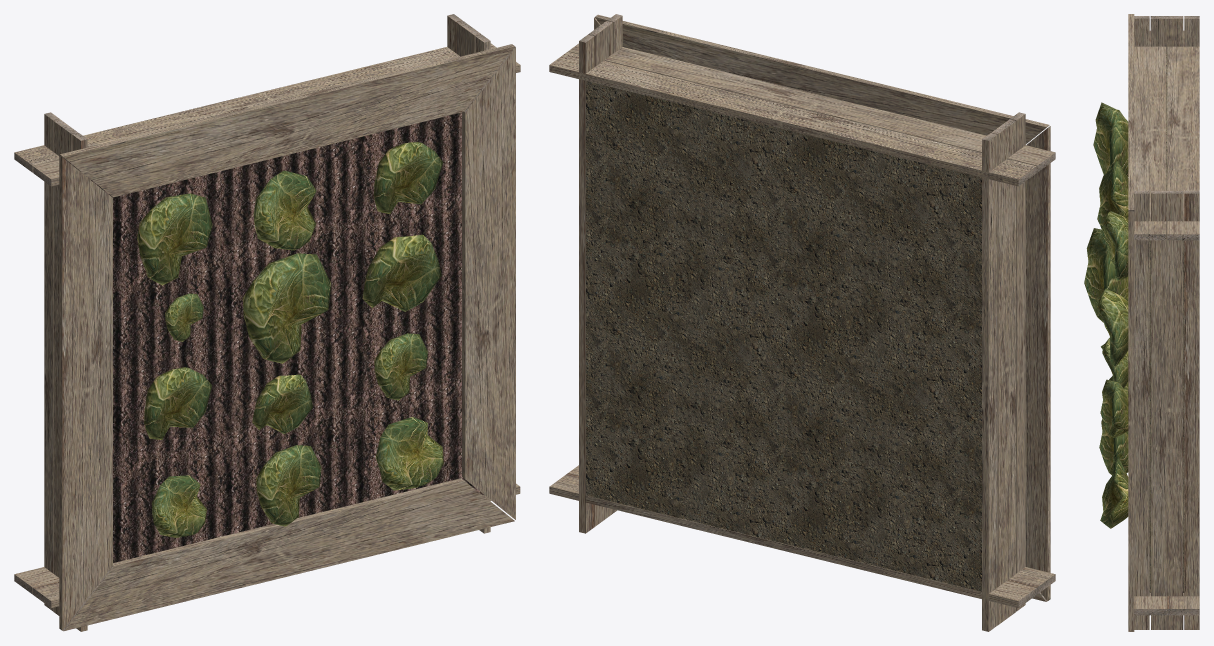
File: cabbage-wilted.dae
The picture shows the model from 3 angles, left to right: view 1: azimuth 30°, elevation 25°; view 2: azimuth 150°, elevation 25°; view 3: azimuth 270°, elevation 25°; orthographic projection. The views are drawn at different scales.
Visible parts, largest first — view 1: dirt, top_1_Cube_016, top_2_Cube_022, top_3_Cube_021, top_4_Cube_023, cabbage_10_SphFBXASC195FBXASC131_re_011, plank_01_Cube_02, cabbage_10_010_SphFBXASC195FBXASC131_re_021, cabbage_10_007_SphFBXASC195FBXASC131_re_018, plank_03_Cube_004, cabbage_10_009_SphFBXASC195FBXASC131_re_020, cabbage_10_005_SphFBXASC195FBXASC131_re_016 (+9 smaller); view 2: dirt, plank_01_Cube_02, top_2_Cube_022, top_1_Cube_016, plank_04_Cube_006, plank_02_Cube_03, plank_03_Cube_004, plank_06_Cube_009, plank_05_Cube_007, plank_08_Cube_011, plank_09_Cube_013, plank_07_Cube_010; view 3: plank_09_Cube_013, plank_08_Cube_011, plank_10_Cube_014, plank_01_Cube_02, plank_02_Cube_03, top_4_Cube_023, cabbage_10_010_SphFBXASC195FBXASC131_re_021, cabbage_10_SphFBXASC195FBXASC131_re_011, dirt, cabbage_10_007_SphFBXASC195FBXASC131_re_018, cabbage_10_005_SphFBXASC195FBXASC131_re_016, cabbage_10_009_SphFBXASC195FBXASC131_re_020 (+10 smaller).
Boxes of the visible parts, left/top/right/bottom form: dirt: left=88, top=112, right=483, bottom=562; top_1_Cube_016: left=60, top=44, right=514, bottom=197; top_2_Cube_022: left=59, top=155, right=112, bottom=630; top_3_Cube_021: left=63, top=478, right=514, bottom=631; top_4_Cube_023: left=462, top=47, right=515, bottom=519; cabbage_10_SphFBXASC195FBXASC131_re_011: left=242, top=253, right=331, bottom=363; plank_01_Cube_02: left=14, top=43, right=496, bottom=172; cabbage_10_010_SphFBXASC195FBXASC131_re_021: left=137, top=193, right=212, bottom=285; cabbage_10_007_SphFBXASC195FBXASC131_re_018: left=362, top=234, right=441, bottom=311; plank_03_Cube_004: left=44, top=112, right=59, bottom=610; cabbage_10_009_SphFBXASC195FBXASC131_re_020: left=253, top=170, right=316, bottom=250; cabbage_10_005_SphFBXASC195FBXASC131_re_016: left=375, top=416, right=443, bottom=490; dirt: left=586, top=81, right=981, bottom=591; plank_01_Cube_02: left=549, top=51, right=1036, bottom=186; top_2_Cube_022: left=1025, top=126, right=1050, bottom=601; top_1_Cube_016: left=595, top=14, right=1049, bottom=144; plank_04_Cube_006: left=991, top=119, right=1016, bottom=624; plank_02_Cube_03: left=568, top=43, right=1055, bottom=172; plank_03_Cube_004: left=982, top=133, right=997, bottom=631; plank_06_Cube_009: left=549, top=473, right=1036, bottom=607; plank_05_Cube_007: left=1010, top=112, right=1025, bottom=611; plank_08_Cube_011: left=579, top=34, right=594, bottom=533; plank_09_Cube_013: left=588, top=21, right=613, bottom=526; plank_07_Cube_010: left=568, top=465, right=1055, bottom=594; plank_09_Cube_013: left=1151, top=190, right=1183, bottom=629; plank_08_Cube_011: left=1184, top=190, right=1199, bottom=629; plank_10_Cube_014: left=1134, top=190, right=1149, bottom=629; plank_01_Cube_02: left=1167, top=30, right=1199, bottom=240; plank_02_Cube_03: left=1134, top=30, right=1166, bottom=240; top_4_Cube_023: left=1128, top=211, right=1134, bottom=631; cabbage_10_010_SphFBXASC195FBXASC131_re_021: left=1093, top=102, right=1128, bottom=176; cabbage_10_SphFBXASC195FBXASC131_re_011: left=1084, top=228, right=1128, bottom=322; dirt: left=1149, top=52, right=1184, bottom=592; cabbage_10_007_SphFBXASC195FBXASC131_re_018: left=1094, top=288, right=1128, bottom=367; cabbage_10_005_SphFBXASC195FBXASC131_re_016: left=1100, top=457, right=1128, bottom=528; cabbage_10_009_SphFBXASC195FBXASC131_re_020: left=1097, top=161, right=1128, bottom=228.
Bounding box in the file's own units: 3.68 × 3.68 × 0.8843.
Materials: 4 (4 with a texture image).
